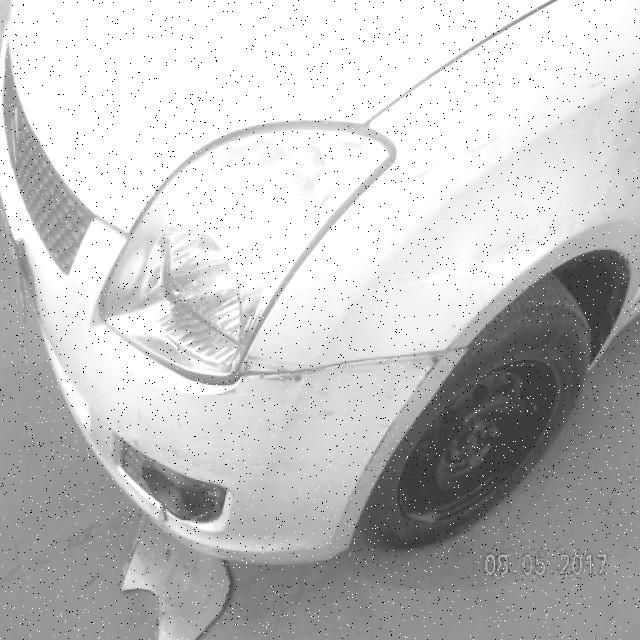car damage: (411, 73, 616, 191), (341, 216, 571, 303), (235, 329, 461, 391), (329, 392, 409, 539), (165, 436, 250, 486), (283, 382, 341, 424)
